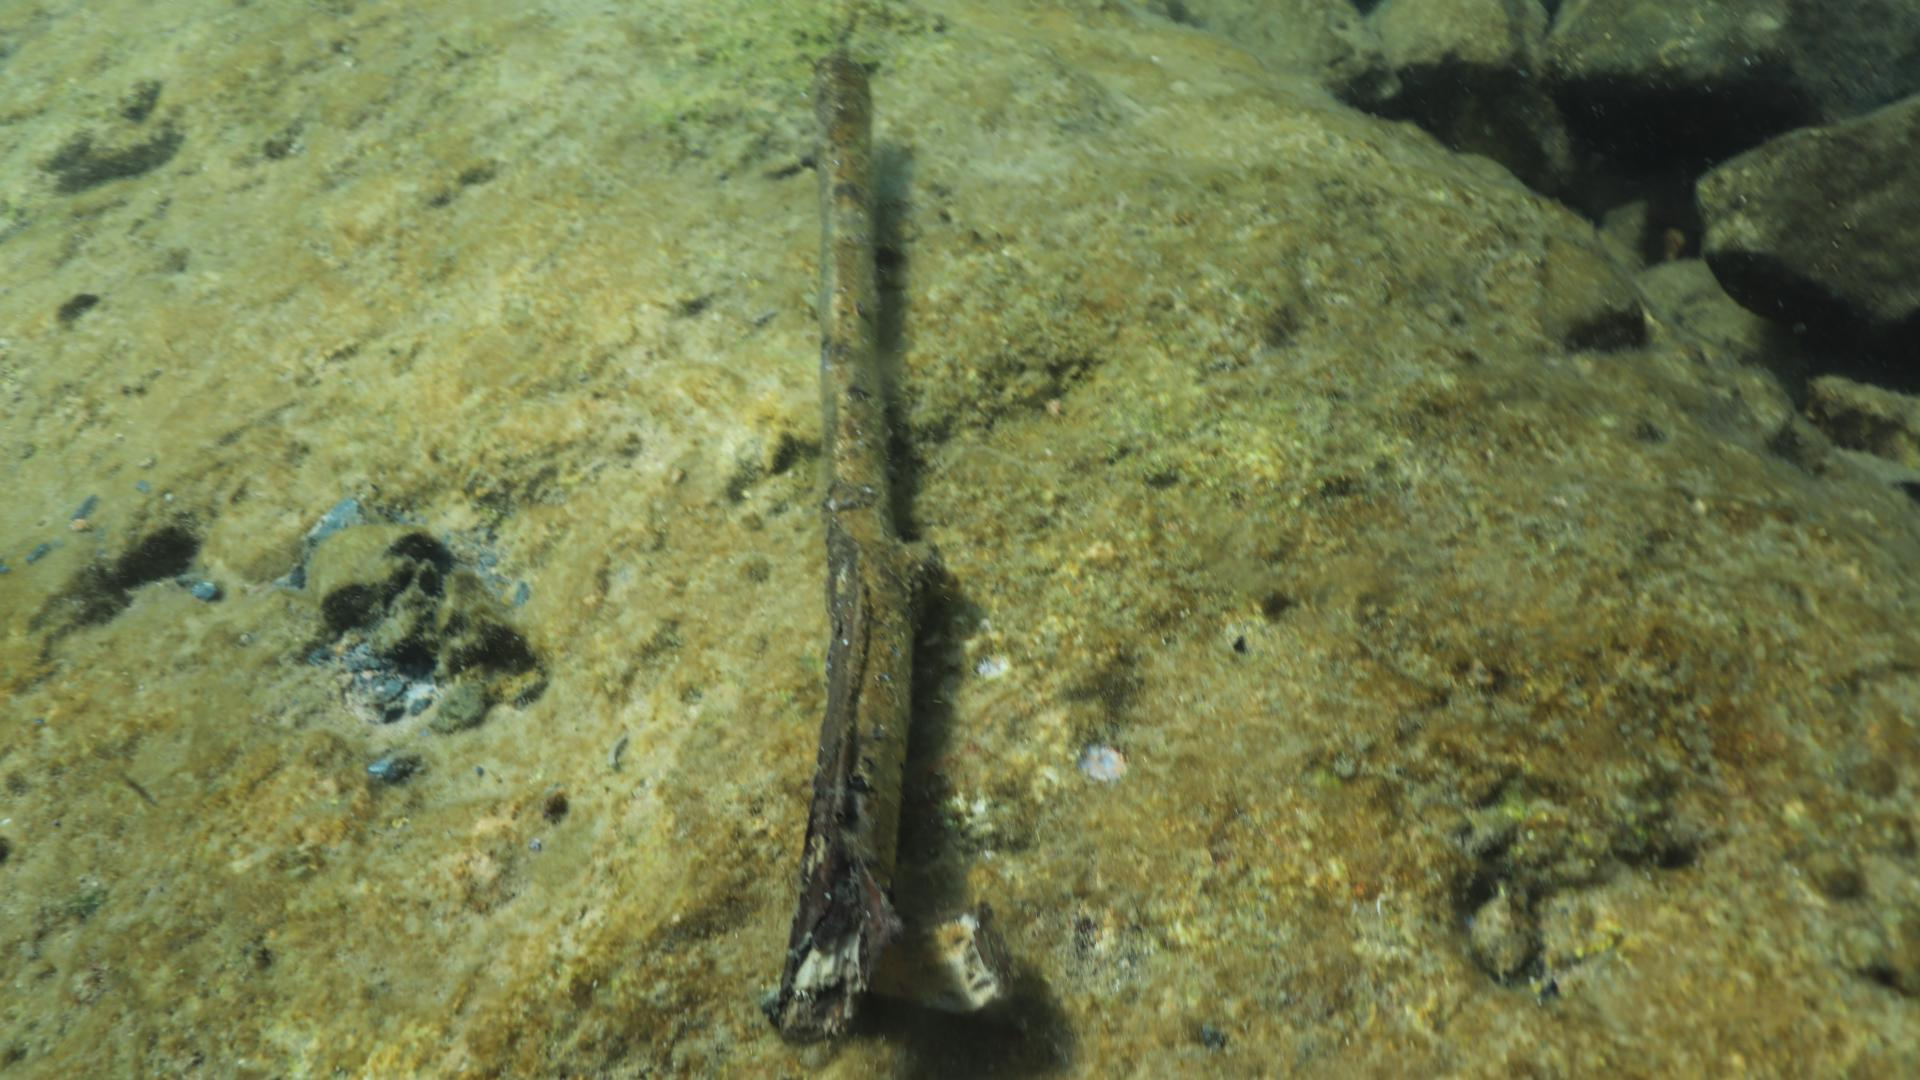wood: (757, 45, 1013, 1044)
